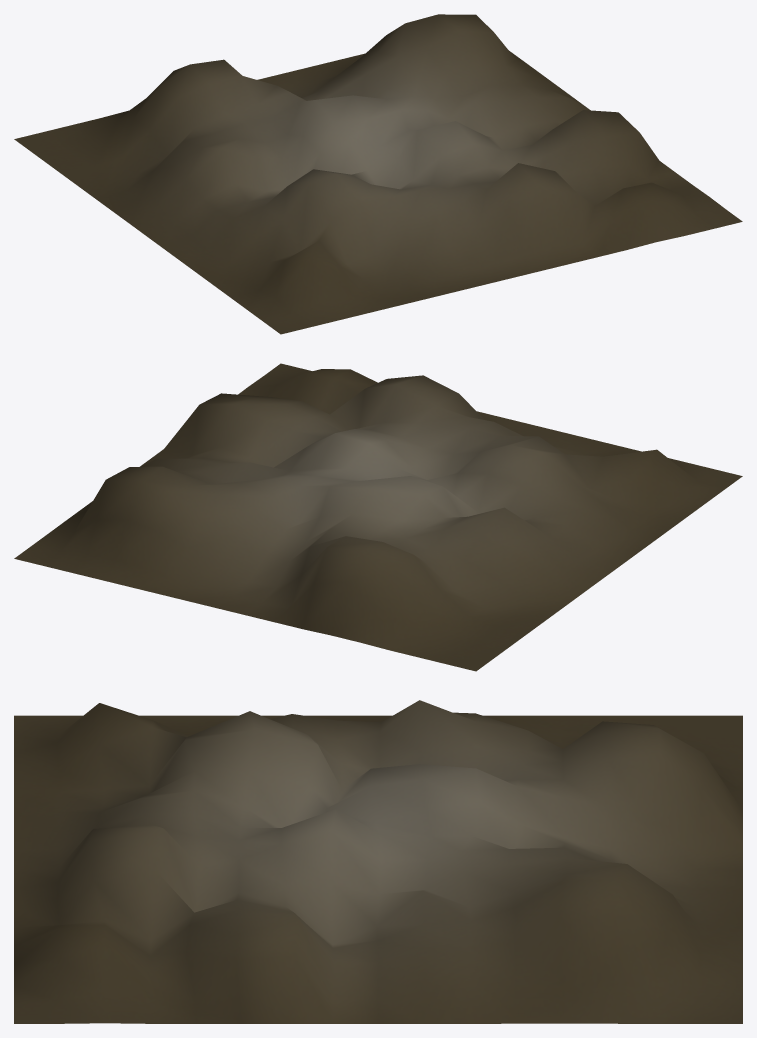
Rendered from Soil.fbx.
3 renders of one model, top to bottom at view 1: azimuth 30°, elevation 25°; view 2: azimuth 150°, elevation 25°; view 3: azimuth 270°, elevation 25°, orthographic. The views are drawn at different scales.
Parts seen in each view (by area): view 1: Plane; view 2: Plane; view 3: Plane.
Boxes of the visible parts, box(x1,y1,x2,y2) form: Plane: box(14, 14, 742, 334); Plane: box(14, 363, 742, 671); Plane: box(14, 700, 742, 1023).
Bounding box in the file's own units: 3 × 0.4048 × 3.
Materials: 1 (1 with a texture image).
